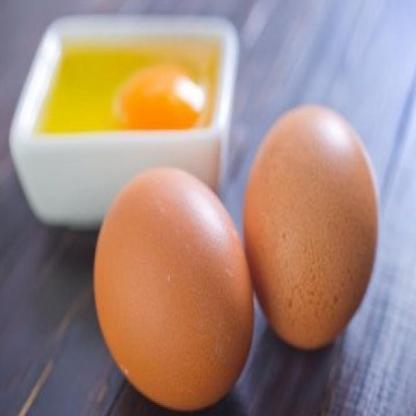egg: (96, 151, 256, 416), (243, 85, 386, 376)
